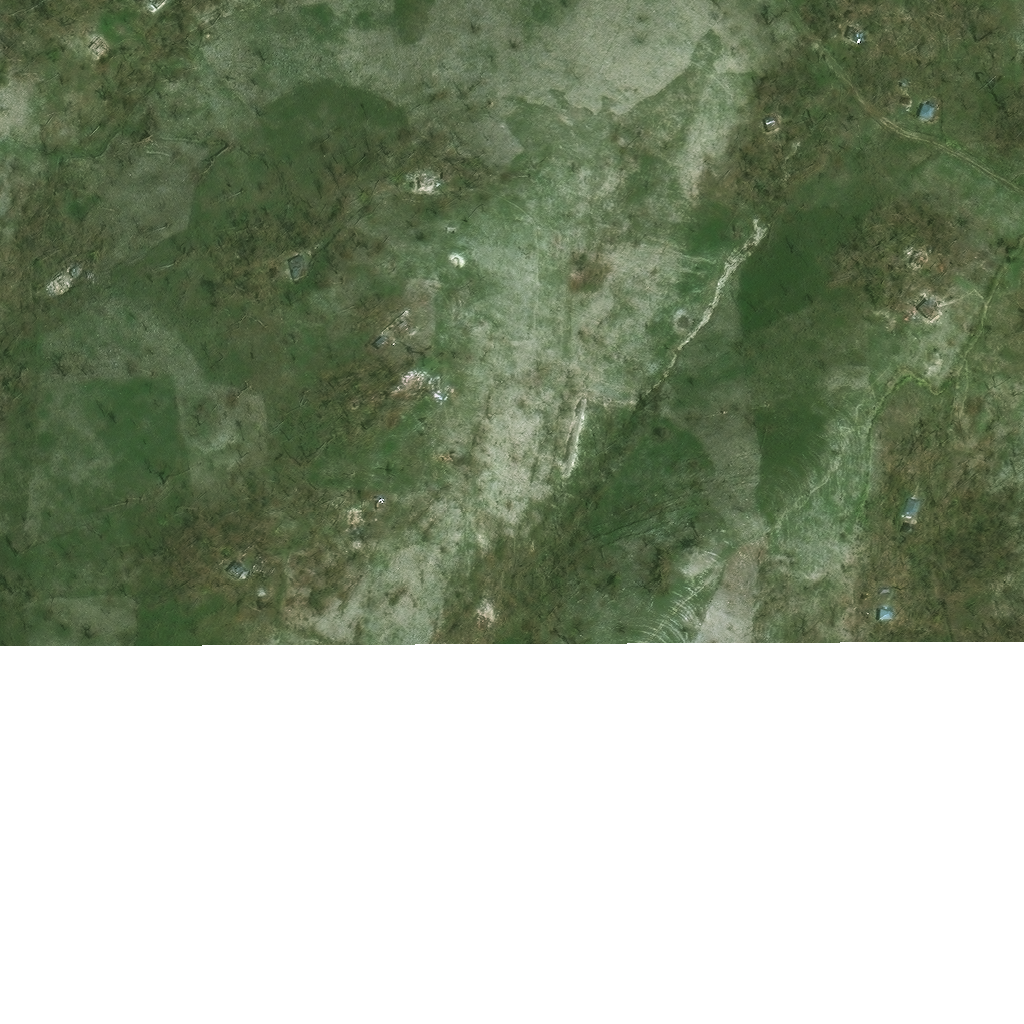destroyed: (385, 388, 400, 408), (491, 597, 507, 613), (499, 627, 512, 640), (364, 394, 377, 406), (883, 304, 892, 312)
major_damage: (72, 256, 96, 281), (96, 29, 120, 52), (409, 177, 425, 193), (908, 251, 923, 268)
minor_damage: (295, 248, 320, 274), (902, 303, 928, 328), (218, 563, 240, 585), (767, 106, 786, 128), (852, 19, 872, 37), (914, 88, 926, 98)
no_damage: (925, 91, 946, 115), (911, 491, 927, 510), (895, 568, 909, 581), (335, 521, 346, 535), (969, 639, 982, 646)
unclassified: (1013, 268, 1023, 283), (854, 3, 865, 14), (846, 15, 855, 24), (158, 0, 167, 4)
